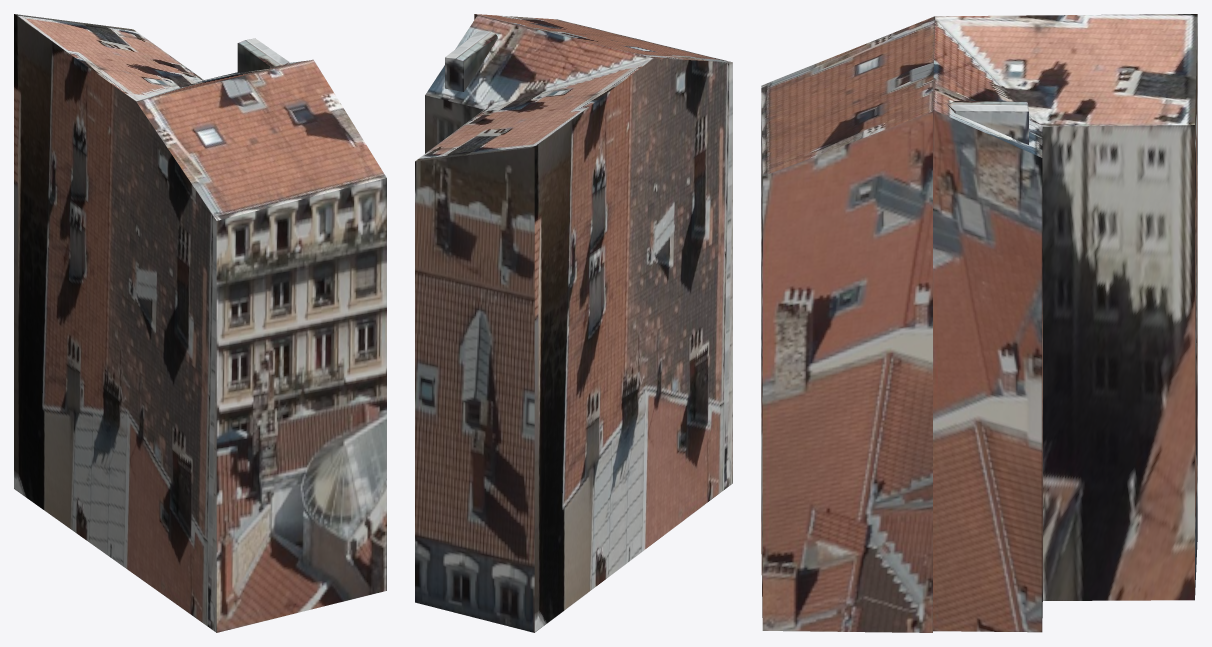
3 renders of one model, left to right at view 1: azimuth 30°, elevation 25°; view 2: azimuth 150°, elevation 25°; view 3: azimuth 270°, elevation 25°, orthographic. The views are drawn at different scales.
Parts seen in each view (by area): view 1: Z_UP; view 2: Z_UP; view 3: Z_UP.
Part boxes in pixels (left/top/right/bottom): Z_UP: left=14, top=14, right=386, bottom=632; Z_UP: left=415, top=14, right=732, bottom=632; Z_UP: left=761, top=14, right=1197, bottom=632.
Bounding box in the file's own units: 10.47 × 26.53 × 20.07.
Materials: 2 (1 with a texture image).
